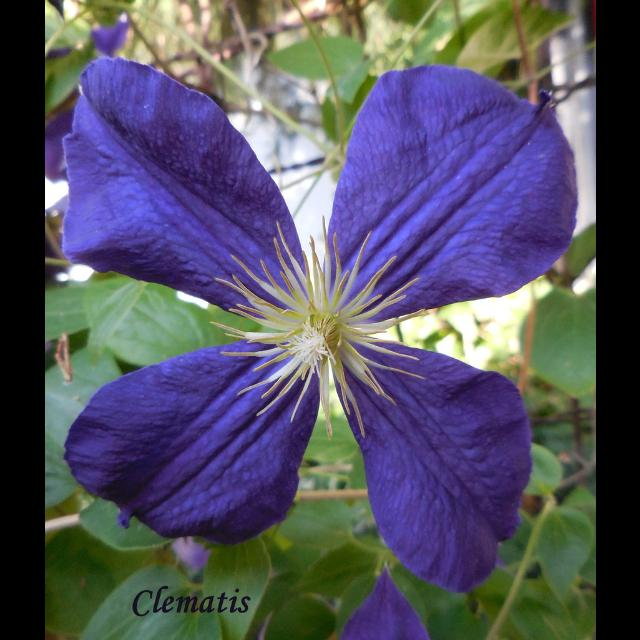Flower: (56, 57, 578, 591)
